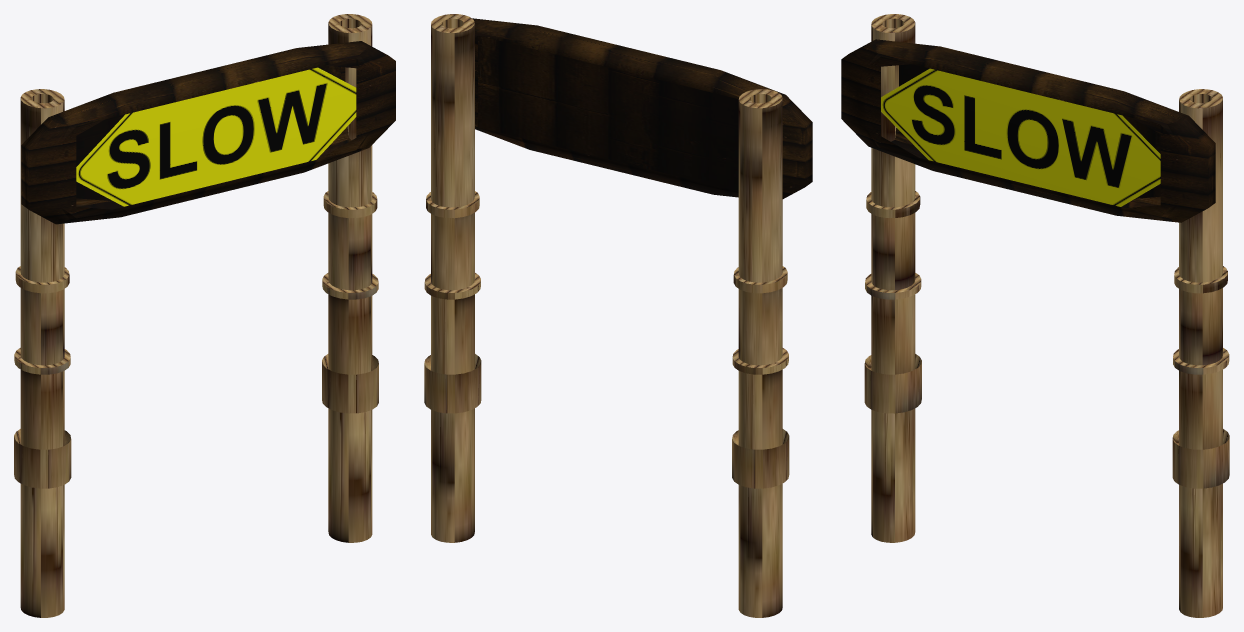
Rendered from slowsign.fbx.
3 renders of one model, left to right at view 1: azimuth 30°, elevation 25°; view 2: azimuth 150°, elevation 25°; view 3: azimuth 330°, elevation 25°, orthographic.
Visible parts, largest first — view 1: pCube1, pPipe2, pPipe1; view 2: pCube1, pPipe2, pPipe1; view 3: pCube1, pPipe1, pPipe2.
Boxes of the visible parts, x1,y1,x2,y2 form: pCube1: (21,41,395,224); pPipe2: (14,89,71,617); pPipe1: (322,14,378,542); pCube1: (472,18,812,198); pPipe2: (732,89,789,617); pPipe1: (424,14,481,542); pCube1: (841,39,1215,222); pPipe1: (1172,89,1229,617); pPipe2: (864,14,921,542).
Bounding box in the file's own units: 5.9 × 7.83 × 1.06.
Materials: 3 (3 with a texture image).
